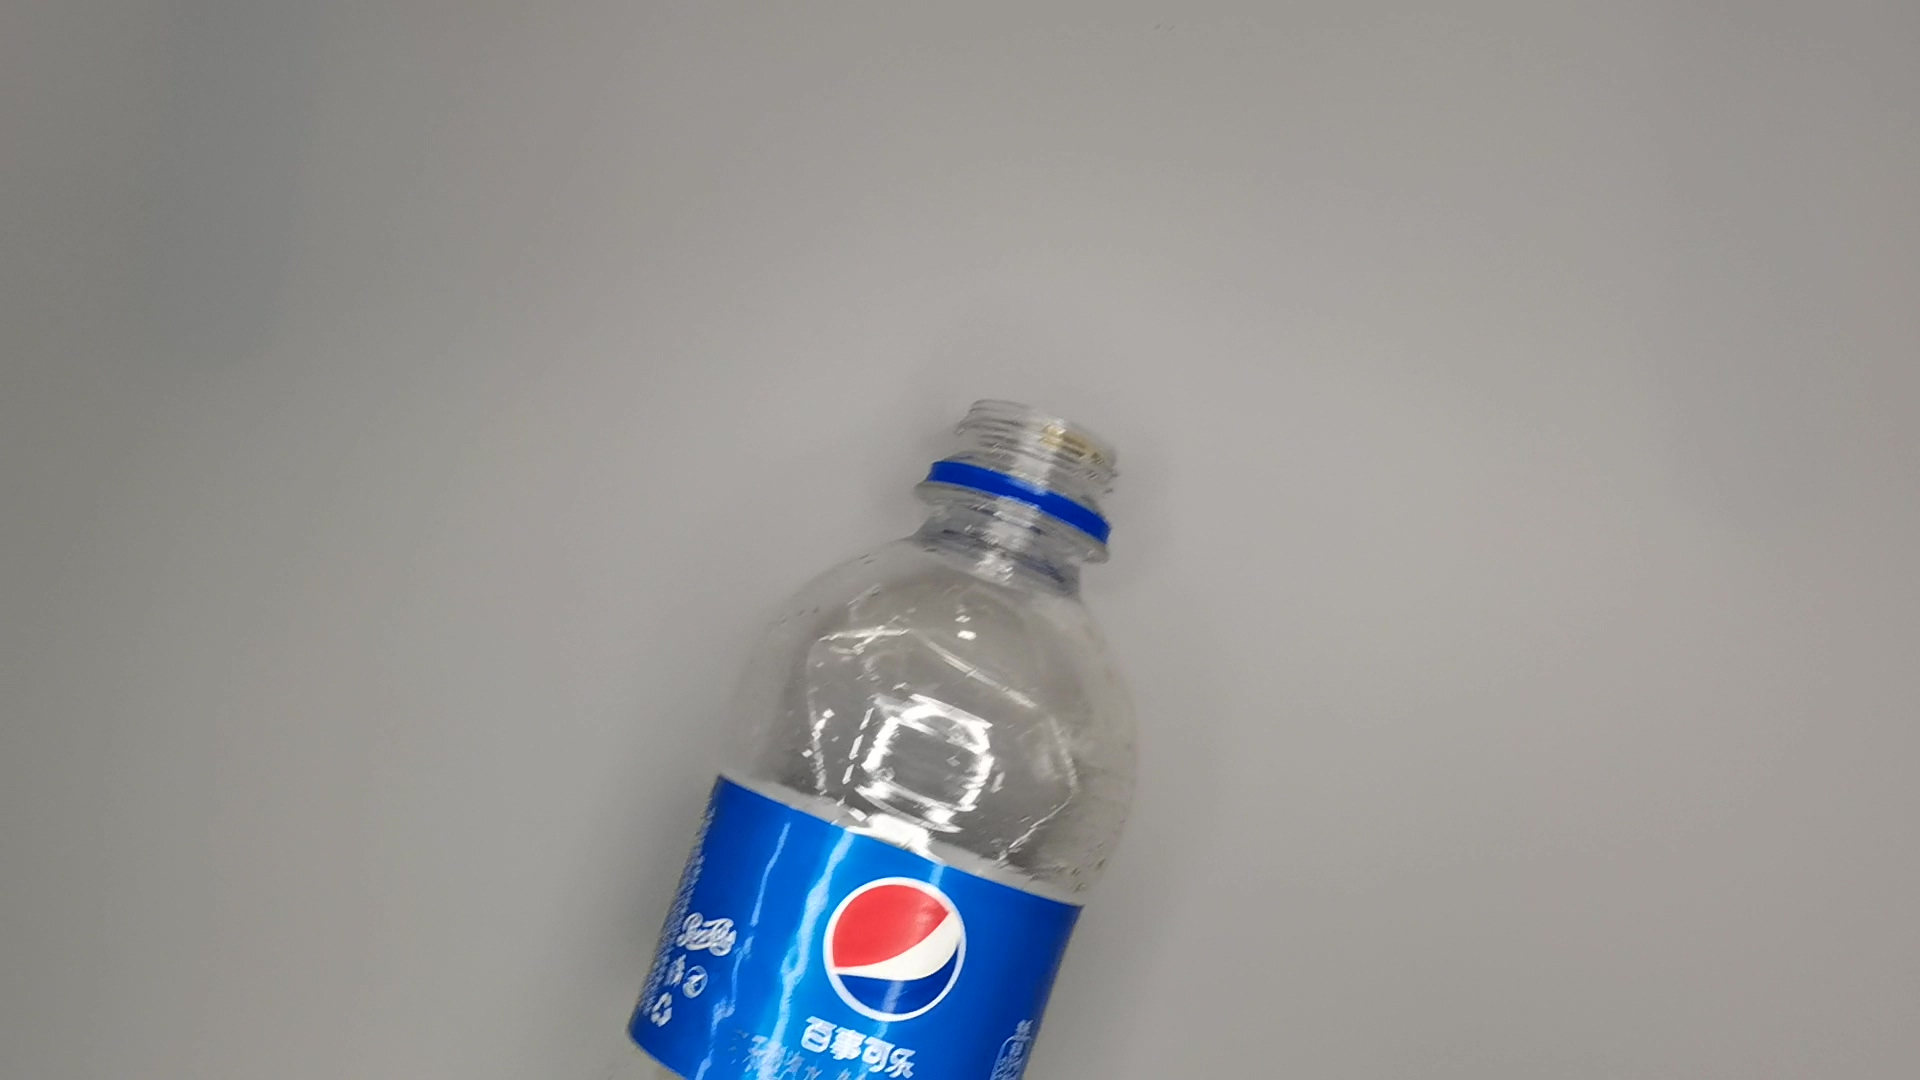bottle: (608, 389, 1149, 1080)
